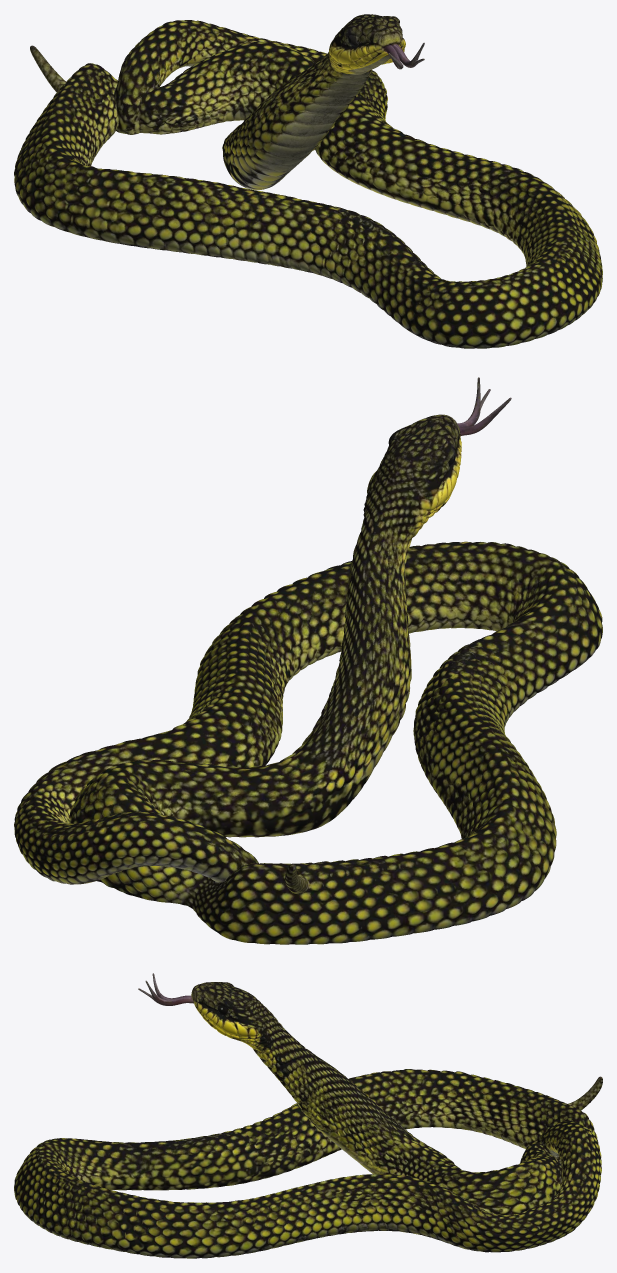
File: culebra.glb
The picture shows the model from 3 angles, top to bottom: view 1: azimuth 30°, elevation 25°; view 2: azimuth 150°, elevation 25°; view 3: azimuth 270°, elevation 25°; orthographic projection. The views are drawn at different scales.
Bounding box in the file's own units: 1.23 × 0.7427 × 1.9.
Materials: 1 (1 with a texture image).
